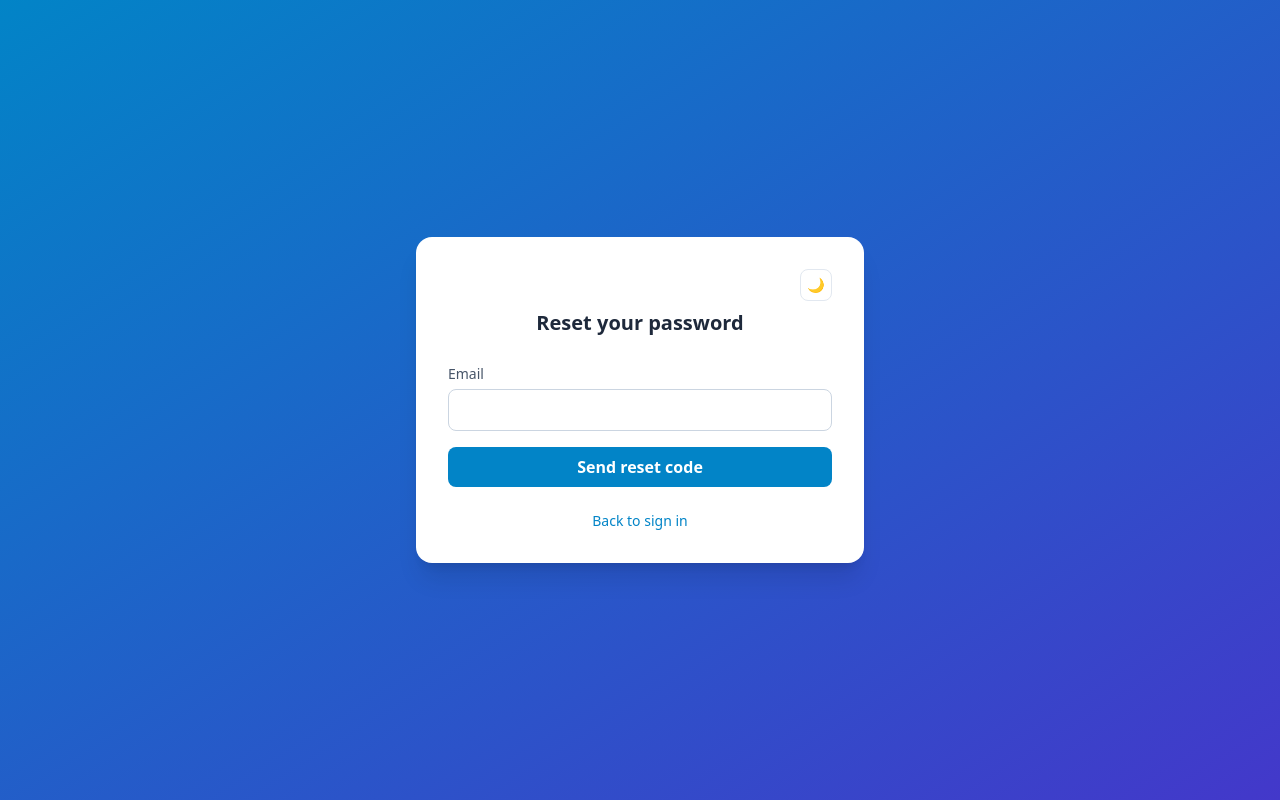
Scenario: ForgotPassword › requesting a code advances to the reset step and shows the server message
The image size is (1280, 800).
In the field labelled "Email": (640, 410) [448,389,832,431], type "a@b.com"
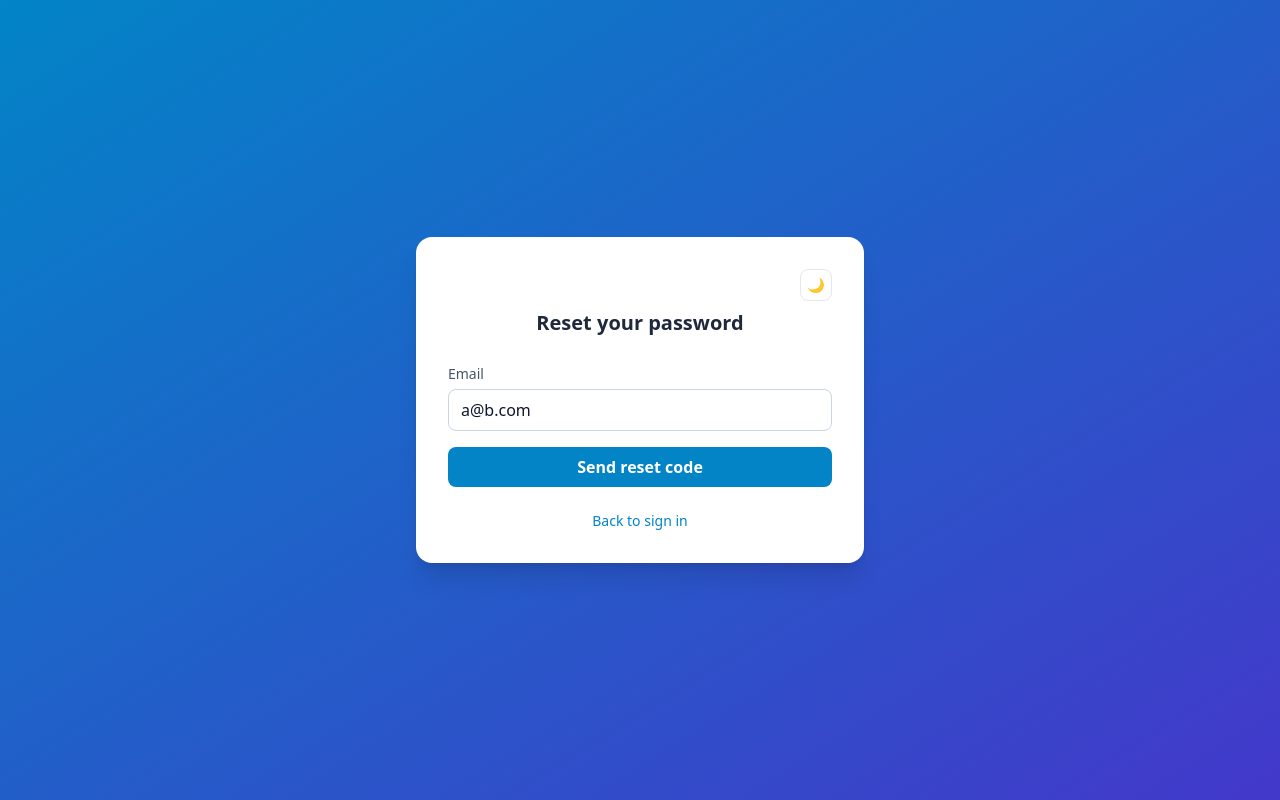
Click the button "Send reset code": (640, 467) [448,447,832,487]
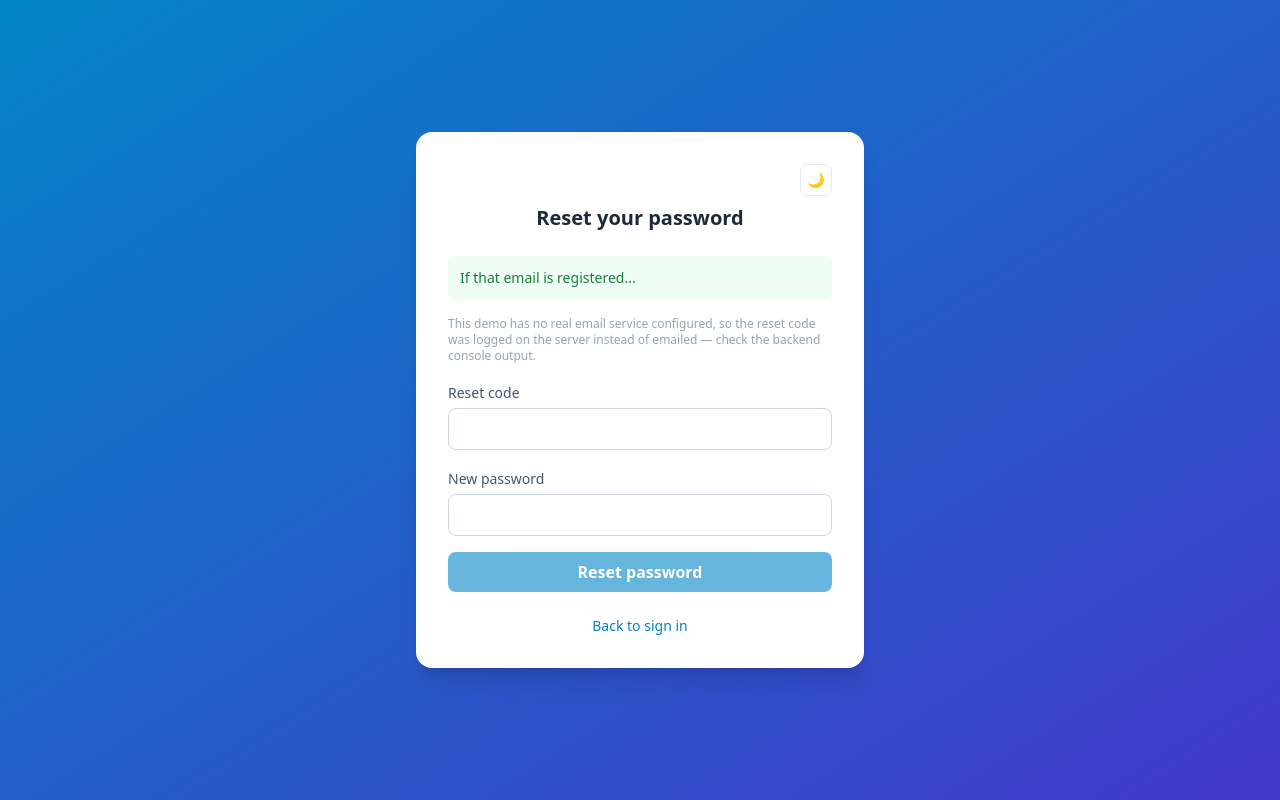
Expected: the text "If that email is registered..." is shown, [448,256,832,300]
Expected: the field labelled "Reset code" is shown, [448,408,832,450]
